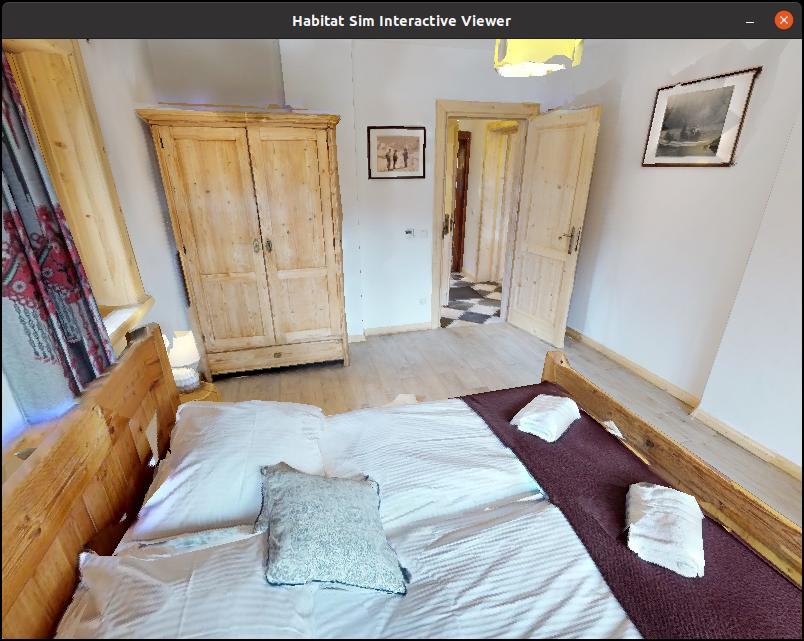bed: (0, 322, 804, 641)
door: (502, 105, 603, 349)
door-frame: (433, 100, 528, 332)
